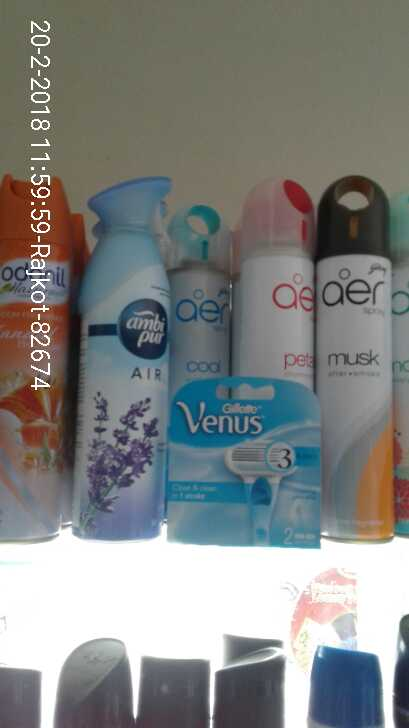beauty: (172, 380, 324, 558)
home: (77, 167, 173, 552)
